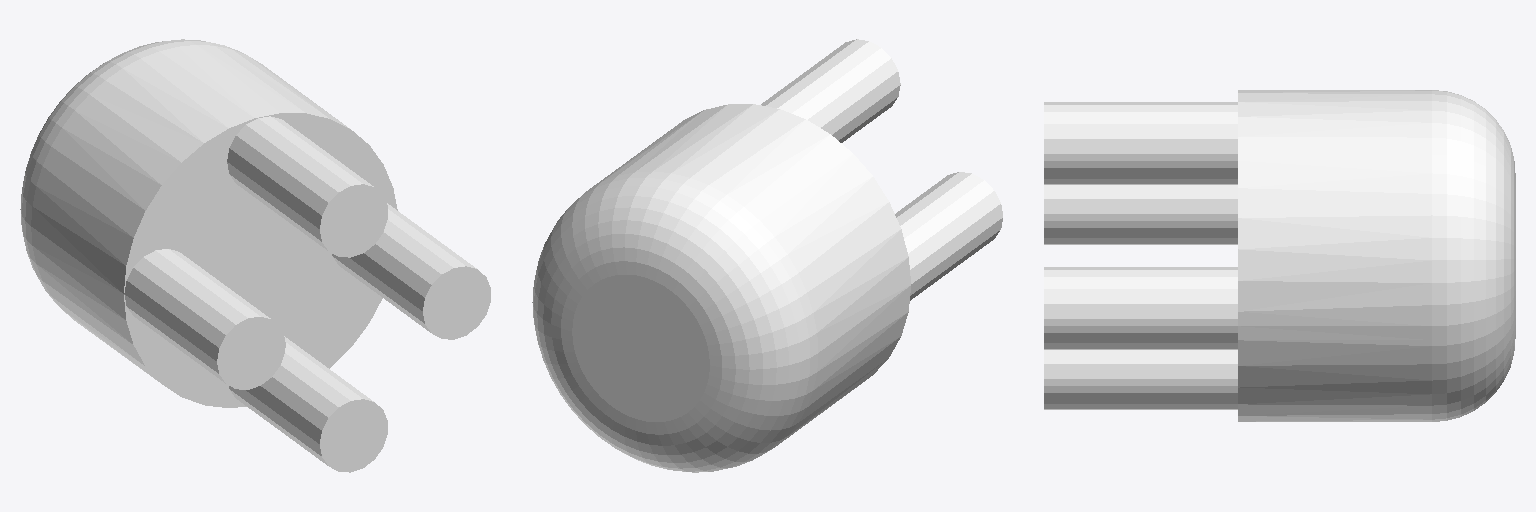
URDF robot description (v1503):
<robot
  name="v1503">
  <link
    name="v1503">
    <inertial>
      <origin
        xyz="6.5162E-05 -0.65505 -6.51619999999599E-05"
        rpy="0 0 0" />
      <mass
        value="1264.2" />
      <inertia
        ixx="316.059527952246"
        ixy="-0.0572497264071919"
        ixz="5.36803968801528E-06"
        iyy="226.607537875502"
        iyz="-0.0572497264069401"
        izz="316.133384882316" />
    </inertial>
    <visual>
      <origin
        xyz="0 0 0"
        rpy="1.5707963267949 0 0" />
      <geometry>
        <mesh
          filename="package://v1503/meshes/v1503.STL" />
      </geometry>
      <material
        name="">
        <color
          rgba="1 1 1 1" />
      </material>
    </visual>
    <collision>
      <origin
        xyz="0 0 0"
        rpy="1.5707963267949 0 0" />
      <geometry>
        <mesh
          filename="package://v1503/meshes/v1503.STL" />
      </geometry>
    </collision>
  </link>
</robot>

--- Render facts (derived) ---
3 views of the same robot in one strip: view 1: azimuth 30°, elevation 25°; view 2: azimuth 150°, elevation 25°; view 3: azimuth 270°, elevation 25° (orthographic).
Model v1503 with 1 links and 0 joints (none), rooted at v1503, posed all joints at 0.
Links seen in each view (by area): view 1: v1503; view 2: v1503; view 3: v1503.
Boxes of the visible links, x1,y1,x2,y2 form: v1503: (20,39,490,472); v1503: (532,39,1002,472); v1503: (1044,90,1515,421).
Bounding box of the posed robot: 1.2 × 1.7 × 1.2 m (x, y, z).
1 mesh visuals loaded from 1 distinct referenced files (1 binary STL).